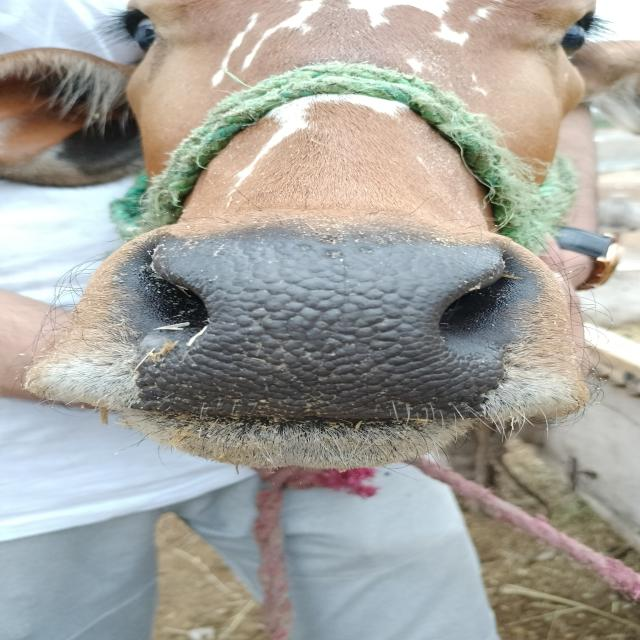muzzles: (123, 221, 542, 431)
